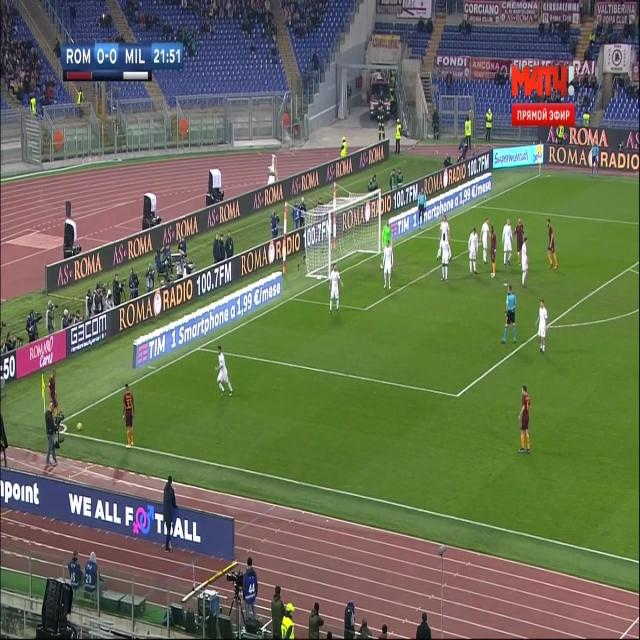Ball: (75, 420, 84, 433)
Goalkeeper: (380, 218, 393, 248)
Player: (213, 343, 235, 400), (121, 381, 138, 453), (518, 382, 533, 459), (326, 263, 346, 317), (543, 214, 560, 275), (534, 297, 551, 357), (380, 240, 398, 294), (436, 233, 454, 283), (47, 365, 62, 418), (488, 222, 500, 282), (467, 226, 480, 280), (501, 216, 514, 269), (479, 214, 491, 268), (516, 215, 526, 266), (521, 235, 530, 290), (438, 214, 452, 239)
Referee: (503, 284, 519, 346), (417, 186, 428, 228), (589, 142, 602, 177)
